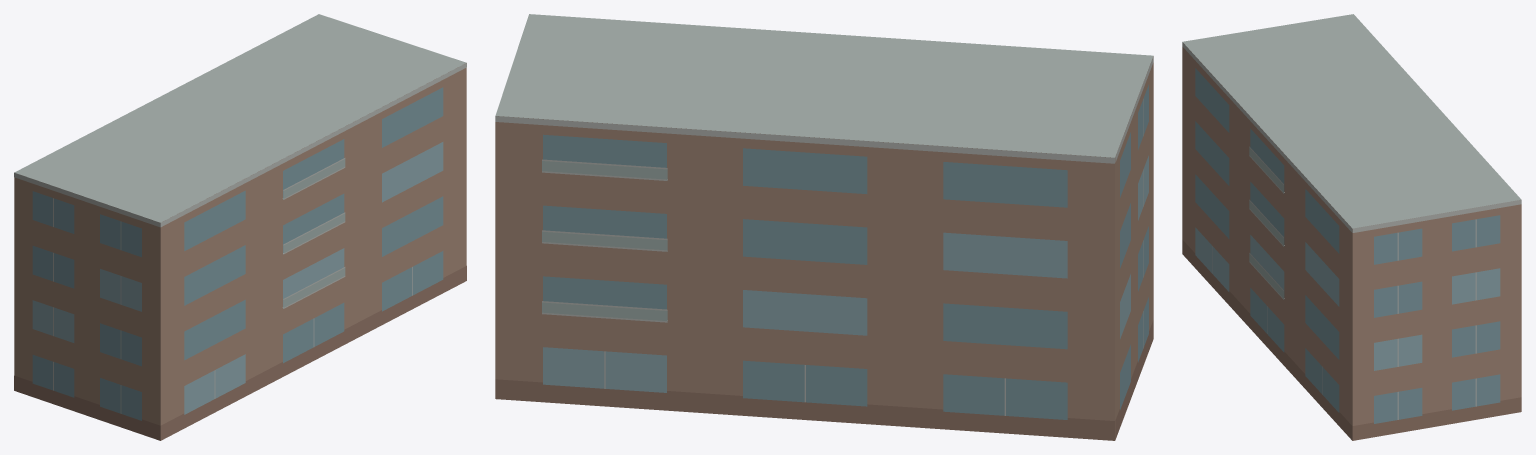
File: survey-upis-32704727.glb
The picture shows the model from 3 angles, left to right: view 1: azimuth 30°, elevation 25°; view 2: azimuth 150°, elevation 25°; view 3: azimuth 270°, elevation 25°; orthographic projection. The views are drawn at different scales.
Visible parts, largest first — view 1: survey-upis-32704727.tmp; view 2: survey-upis-32704727.tmp; view 3: survey-upis-32704727.tmp.
Part boxes in pixels (x1,y1,x2,y2): survey-upis-32704727.tmp: (14, 14, 466, 440); survey-upis-32704727.tmp: (495, 14, 1153, 440); survey-upis-32704727.tmp: (1182, 14, 1521, 440).
Bounding box in the file's own units: 24.73 × 11.4 × 16.52.
